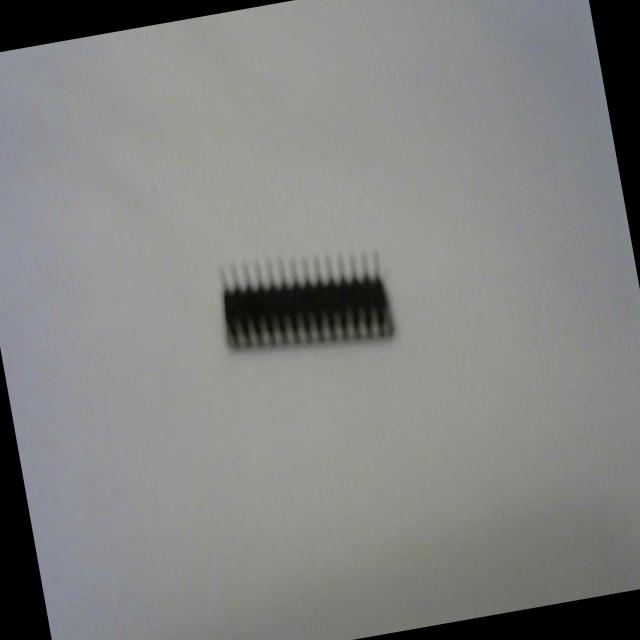atmega: (210, 230, 400, 371)
